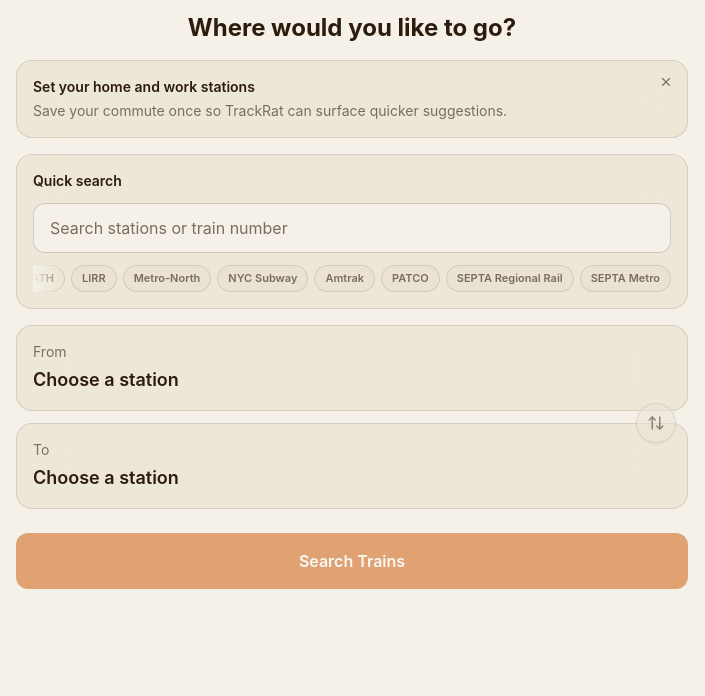
Test: TripSelectionPage quick search system filtering › does not render disabled stations under Other systems
Type "union station" into the field with placeholder "Search stations or train number".
click(352, 228); type("union station")  # box x1=33 y1=203 x2=671 y2=253
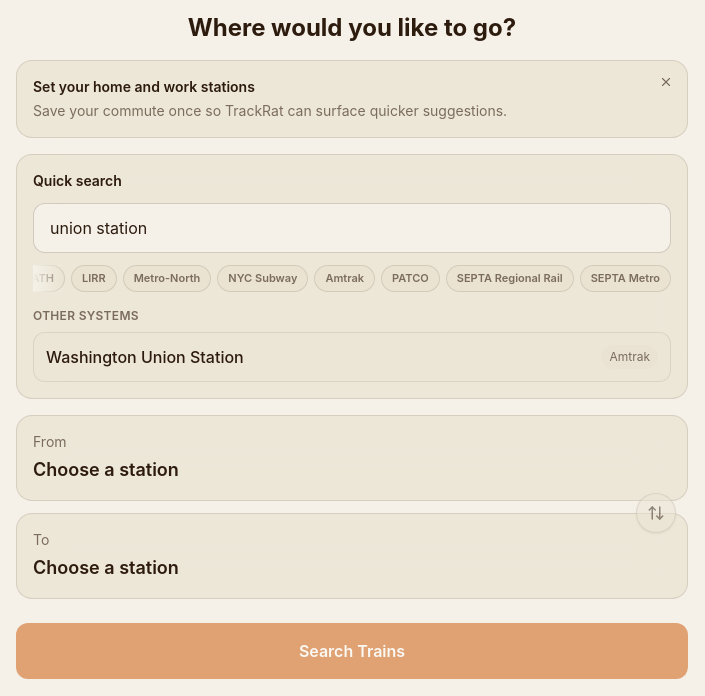
Now the text "Other systems" is shown, box x1=33 y1=308 x2=139 y2=322
Now the text "Washington Union Station" is shown, box x1=46 y1=344 x2=244 y2=368
